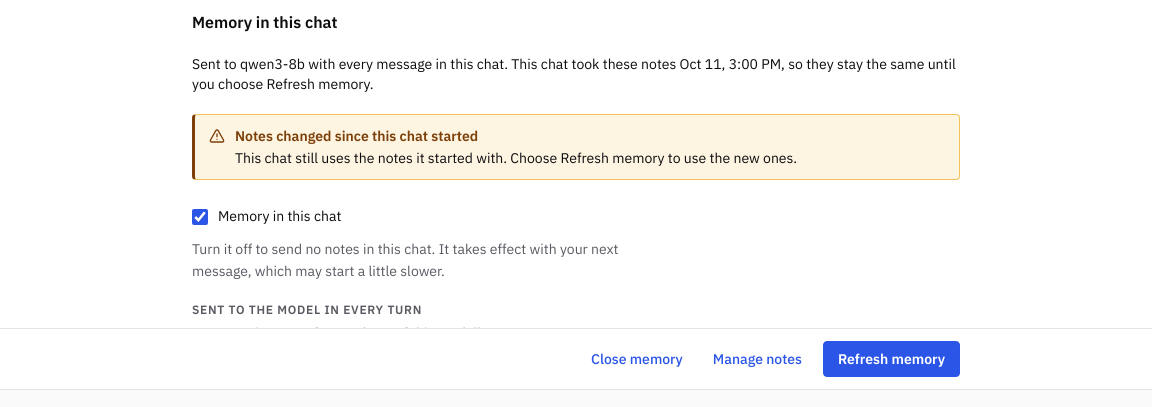
Test: Refresh memory and the notes that changed › says why it could not, and does not say it refreshed
Click the button "Refresh memory" at coordinates (891, 359), box [823,341,960,377]
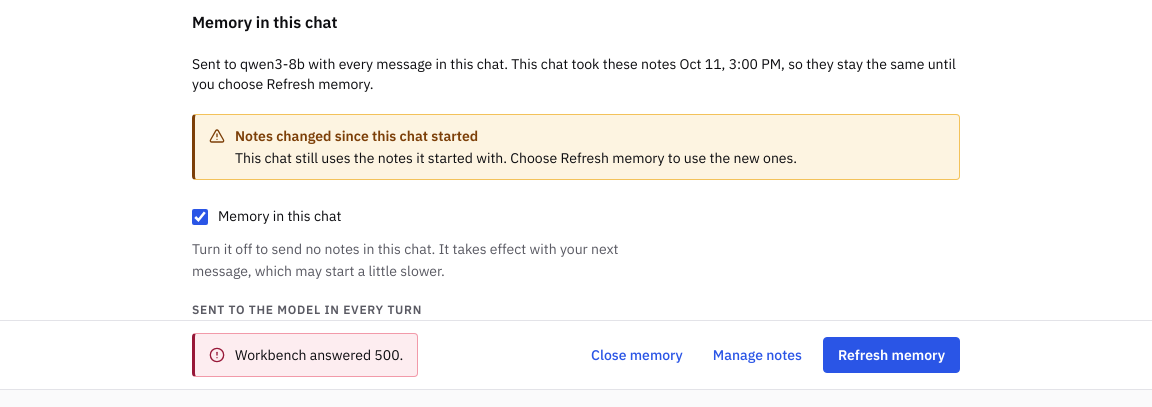
Expected: the message reads "Workbench answered 500.", [235,346,403,364]
